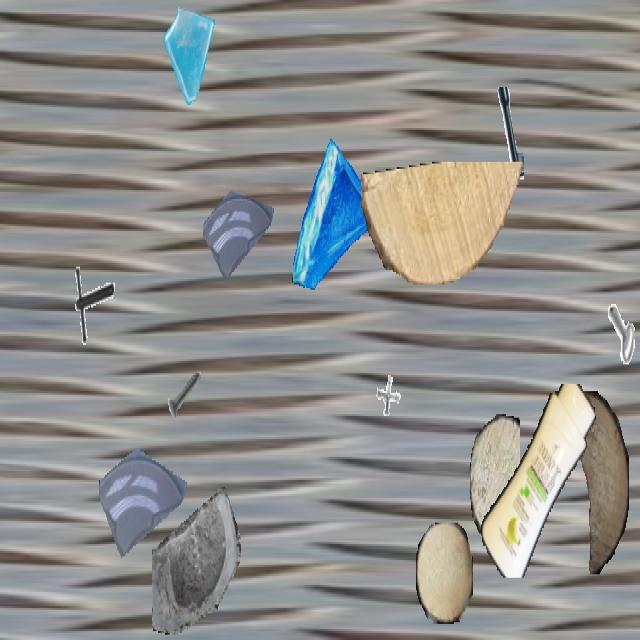glass: (290, 137, 384, 304), (152, 482, 240, 638), (99, 416, 187, 572), (203, 162, 275, 290), (162, 2, 220, 105)
metal: (466, 87, 524, 190), (66, 261, 114, 347), (607, 270, 640, 366), (164, 357, 206, 432), (370, 361, 410, 432)
plastic: (478, 384, 600, 576)
wood: (361, 162, 527, 282), (557, 391, 629, 573), (470, 414, 520, 542), (416, 523, 472, 622)
